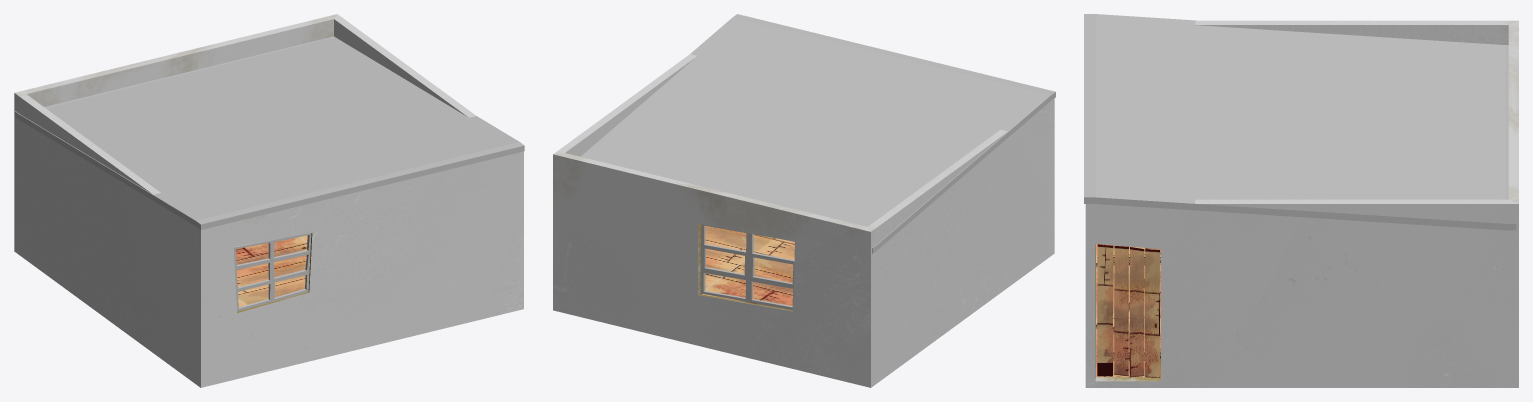
Rendered from Room1_06pm.fbx.
The picture shows the model from 3 angles, left to right: view 1: azimuth 30°, elevation 25°; view 2: azimuth 150°, elevation 25°; view 3: azimuth 270°, elevation 25°; orthographic projection. The views are drawn at different scales.
Visible parts, largest first — view 1: Plane.008, Plane.006, Plane.007; view 2: Plane.008, Plane.006, Plane.001; view 3: Plane.008, Plane.006, Plane.002.
Boxes of the visible parts, x1,y1,x2,y2 form: Plane.008: [14, 14, 523, 387]; Plane.006: [14, 36, 524, 229]; Plane.007: [233, 233, 311, 311]; Plane.008: [553, 54, 1054, 387]; Plane.006: [580, 14, 1055, 253]; Plane.001: [700, 224, 795, 310]; Plane.008: [1085, 20, 1518, 387]; Plane.006: [1084, 14, 1516, 230]; Plane.002: [1097, 244, 1159, 377].
Bounding box in the file's own units: 601 × 291 × 602.
